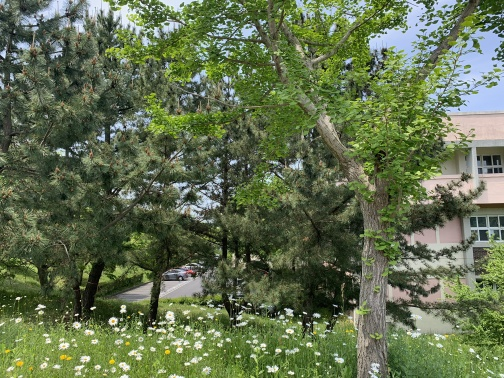College Of Education: (378, 96, 503, 335)
